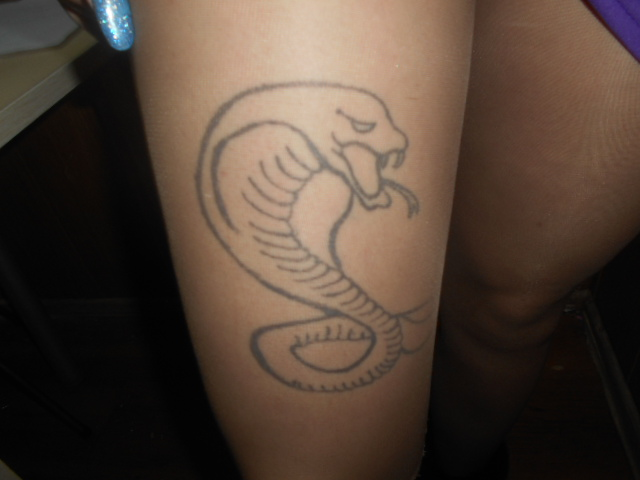tatu7_zmeya: (183, 77, 445, 407)
